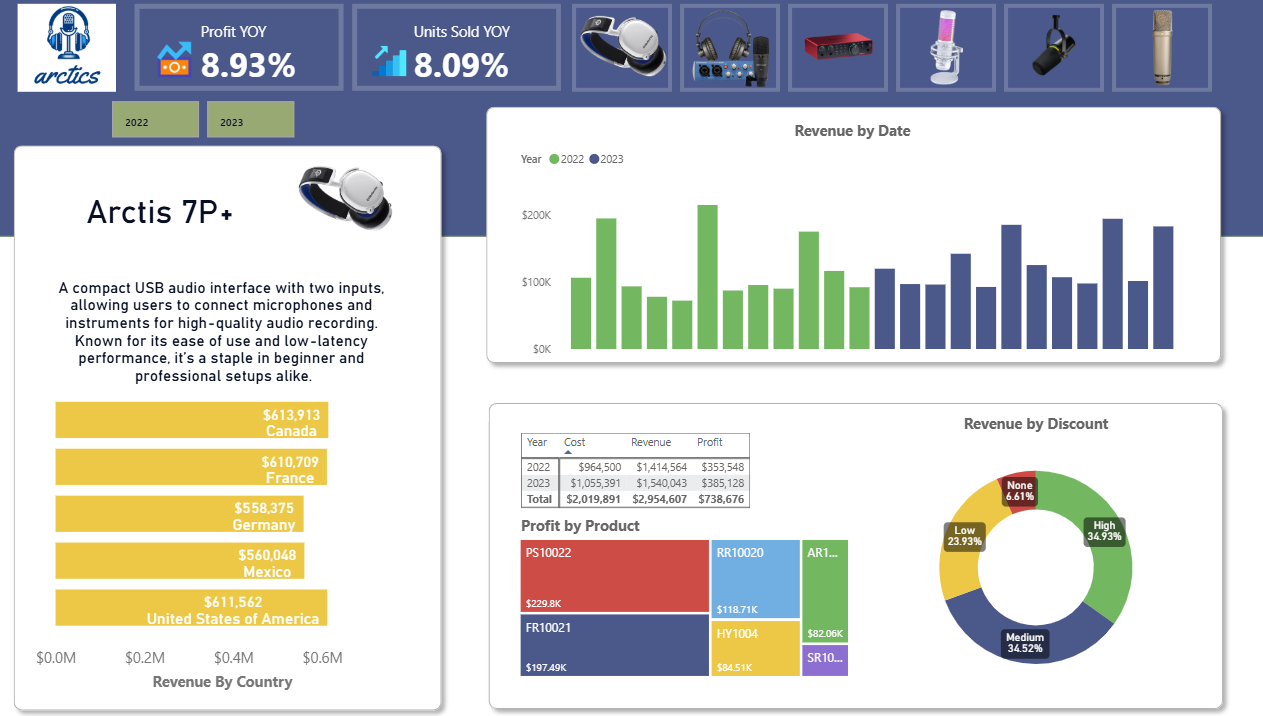

Layout of this report page (visuals, bound fields, positions):
{"tool":"powerbi","page":{"name":"Dashboard","canvas":[1280,720],"ordinal":0},"visuals":[{"type":"shape","box":[10,0,1270,237.5],"z":0},{"type":"shape","box":[18.8,137.1,445.8,582.9],"z":1000},{"type":"shape","box":[493.3,395.1,752.2,323.9],"z":2000},{"type":"shape","box":[491.4,98.6,752.9,274.3],"z":3000},{"type":"barChart","fields":{"Category":["product_sales.Country"],"Y":["Sum(Sales.Revenue)"]},"box":[44.3,371.4,385.7,325.7],"z":4000},{"type":"columnChart","title":"Revenue by Date","fields":{"Y":["Sum(Sales.Revenue)"],"Series":["Dim_Date.Year"],"Category":["Dim_Date.Month Name","Dim_Date.Date"]},"box":[530,121.4,672.9,241.4],"z":5000},{"type":"donutChart","title":"Revenue by Discount","fields":{"Category":["Sales. Discount Band "],"Y":["Sum(Sales.Revenue)"]},"box":[867.1,414.1,365,294.3],"z":6000},{"type":"pivotTable","fields":{"Rows":["Dim_Date.Year","Sales.Customer Type","Sales.Product"],"Values":["Sum(Sales.Cost)","Sum(Sales.Revenue)","Sum(Sales.Profit)"]},"box":[529.5,428.5,339,158.7],"z":7000},{"type":"advancedSlicerVisual","fields":{"Values":["Item.Image url"]},"box":[581.4,0,650.7,98.1],"z":8000},{"type":"cardVisual","fields":{"Data":["Min(Item.Image url)"]},"box":[291.4,144.3,165.7,125.7],"z":9000},{"type":"card","fields":{"Values":["Min(Item.Description)"]},"box":[44.7,269.8,385.2,125.5],"z":10000},{"type":"image","box":[9.8,0,142.3,98.2],"z":11000},{"type":"cardVisual","fields":{"Data":["Sales.Profit YoY %","Sales.Units Sold YOY %"]},"box":[144.2,0,437.8,97.9],"z":12000},{"type":"advancedSlicerVisual","fields":{"Values":["Dim_Date.Year"]},"box":[121,97.9,288.3,46.3],"z":13000},{"type":"card","fields":{"Values":["Min(Item.Product)"]},"box":[58.6,150,232.9,120],"z":14000},{"type":"treemap","title":"Profit by Product","fields":{"Details":["Sales.Product"],"Values":["Sales.Profit1"]},"box":[530,515.7,337.1,165.7],"z":15000}]}

Visuals, with their boxes in screenshot pixels (x1, y1, x2, y2), scaled from the page's 1280x720 canvas onto the 1263x716 screenshot:
shape: BBox(10, 0, 1262, 236)
shape: BBox(19, 136, 458, 715)
shape: BBox(487, 393, 1229, 715)
shape: BBox(485, 98, 1228, 371)
barChart - product_sales.Country x Sum(Sales.Revenue): BBox(44, 369, 424, 693)
"Revenue by Date" columnChart: BBox(523, 121, 1187, 361)
"Revenue by Discount" donutChart: BBox(856, 412, 1216, 704)
pivotTable - Dim_Date.Year x Sales.Customer Type: BBox(522, 426, 857, 584)
advancedSlicerVisual - Item.Image url: BBox(574, 0, 1216, 98)
cardVisual - Min(Item.Image url): BBox(288, 143, 451, 268)
card - Min(Item.Description): BBox(44, 268, 424, 393)
image: BBox(10, 0, 150, 98)
cardVisual - Sales.Profit YoY % x Sales.Units Sold YOY %: BBox(142, 0, 574, 97)
advancedSlicerVisual - Dim_Date.Year: BBox(119, 97, 404, 143)
card - Min(Item.Product): BBox(58, 149, 288, 268)
"Profit by Product" treemap: BBox(523, 513, 856, 678)
